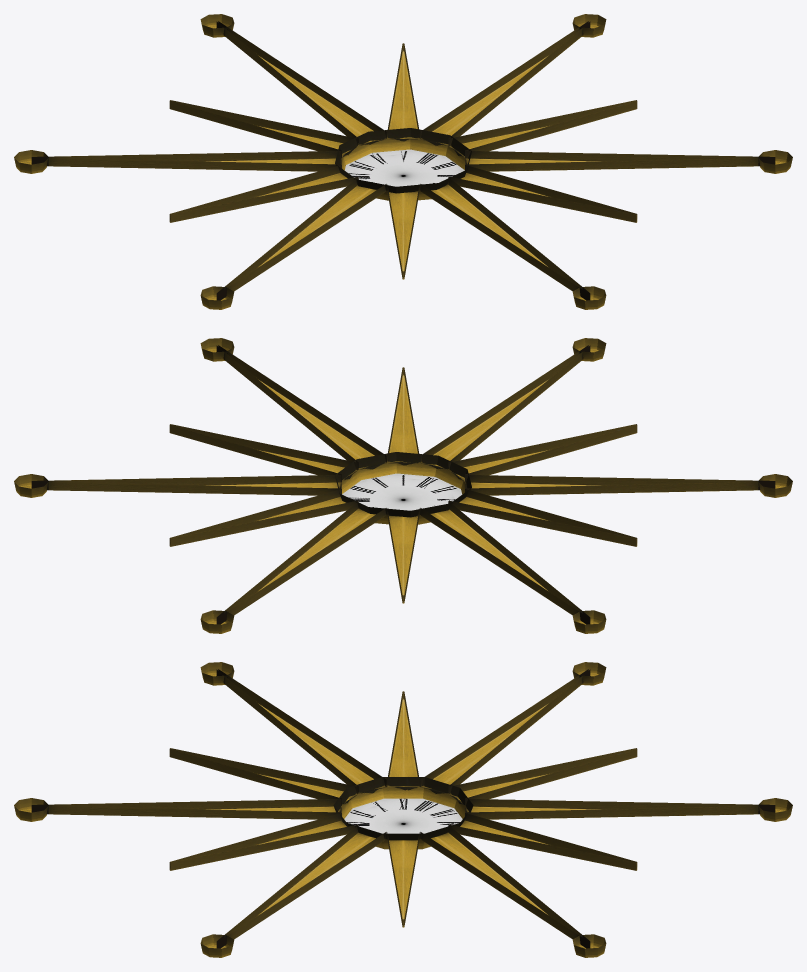
The model's file is nt_2020_wall_clock_02_LOD1.obj.
The picture shows the model from 3 angles, top to bottom: view 1: azimuth 30°, elevation 25°; view 2: azimuth 150°, elevation 25°; view 3: azimuth 270°, elevation 25°; orthographic projection.
Visible parts, largest first — view 1: mtl_nt_2020_wall_clock_01; view 2: mtl_nt_2020_wall_clock_01; view 3: mtl_nt_2020_wall_clock_01.
Boxes of the visible parts, x1=… form: mtl_nt_2020_wall_clock_01: x1=14, y1=14, x2=792, y2=309; mtl_nt_2020_wall_clock_01: x1=14, y1=338, x2=792, y2=633; mtl_nt_2020_wall_clock_01: x1=14, y1=662, x2=792, y2=957.
Size of the model in its own units: 98.36 by 4.25 by 113.
